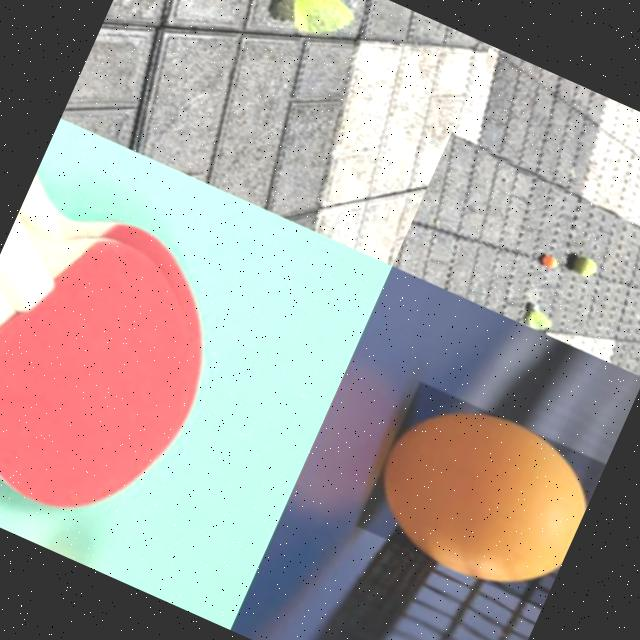ping-pong-ball: (354, 380, 606, 608), (540, 254, 558, 272)
